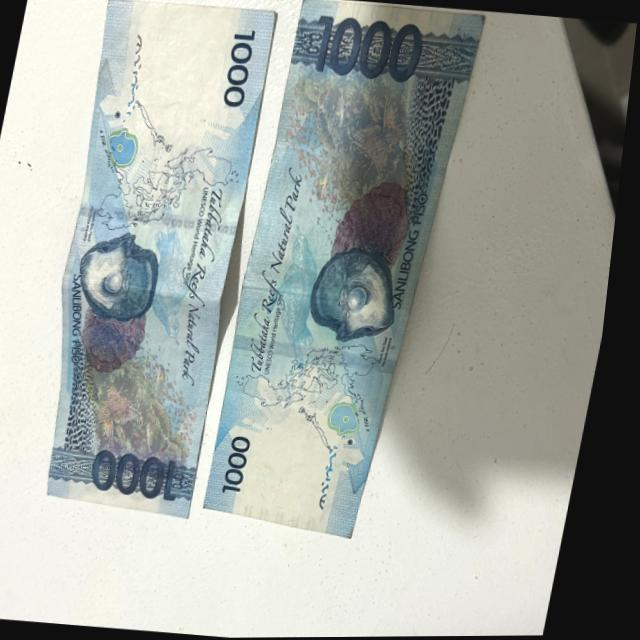1000_pearl: (320, 246, 403, 329), (87, 244, 163, 314)
1000_pearl_watermark: (102, 128, 144, 170), (333, 396, 375, 435)
